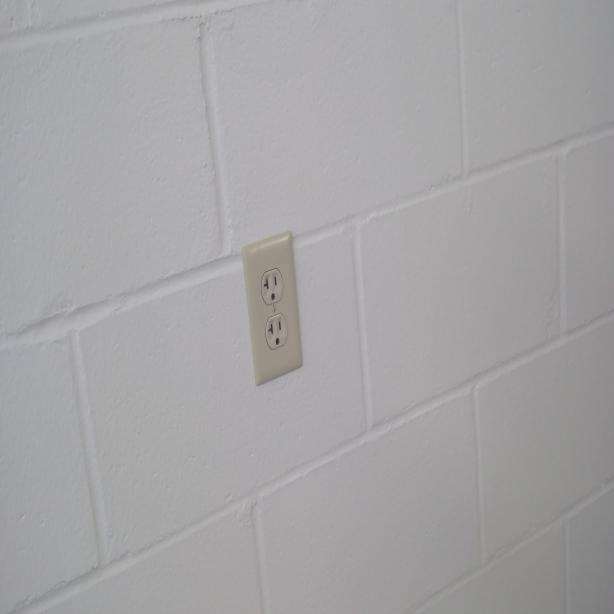typeb: (264, 315, 286, 349), (262, 269, 284, 302)
